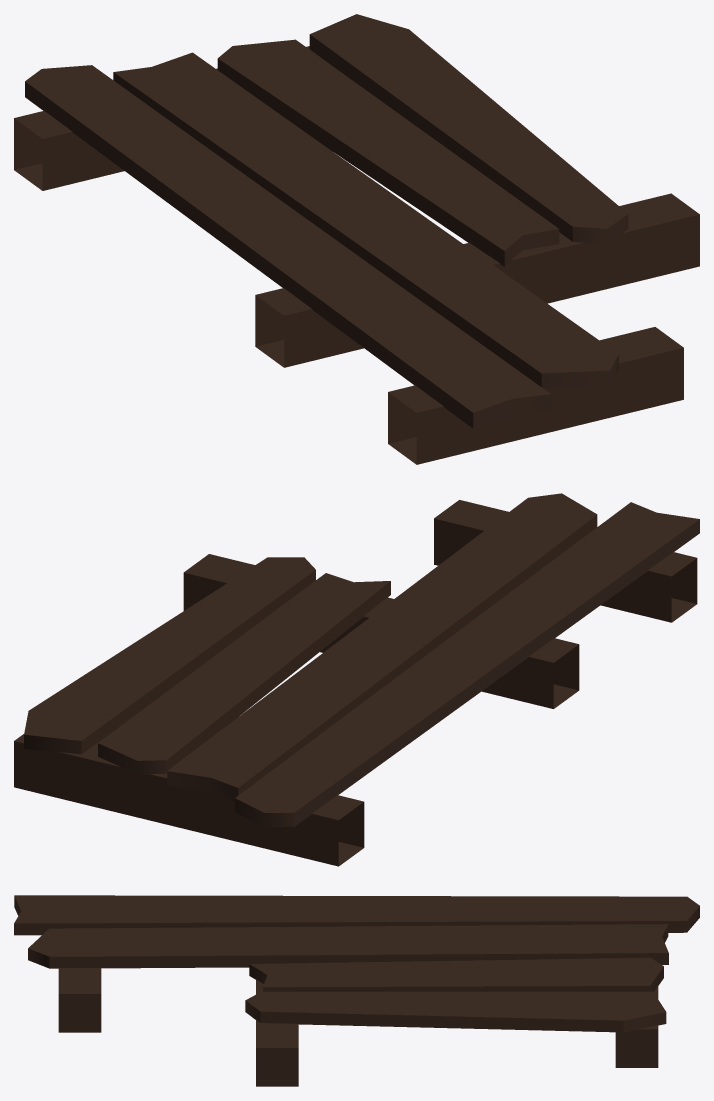
Rendered from envi_woodAttic2.fbx.
3 views of the same model, one above another, from view 1: azimuth 30°, elevation 25°; view 2: azimuth 150°, elevation 25°; view 3: azimuth 270°, elevation 25° (orthographic). The views are drawn at different scales.
Parts seen in each view (by area): view 1: pCube37; view 2: pCube37; view 3: pCube37.
Boxes of the visible parts, x1,y1,x2,y2 form: pCube37: (14,14,699,464); pCube37: (14,493,699,866); pCube37: (14,895,699,1086).
Size of the model in its own units: 3.01 by 0.4641 by 5.77.
